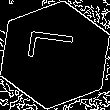L_E: (26, 36, 84, 74)
